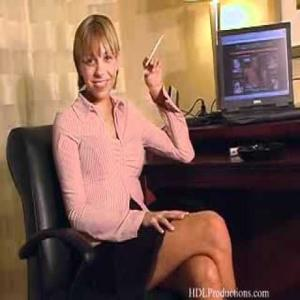cigarette: (139, 33, 164, 71)
